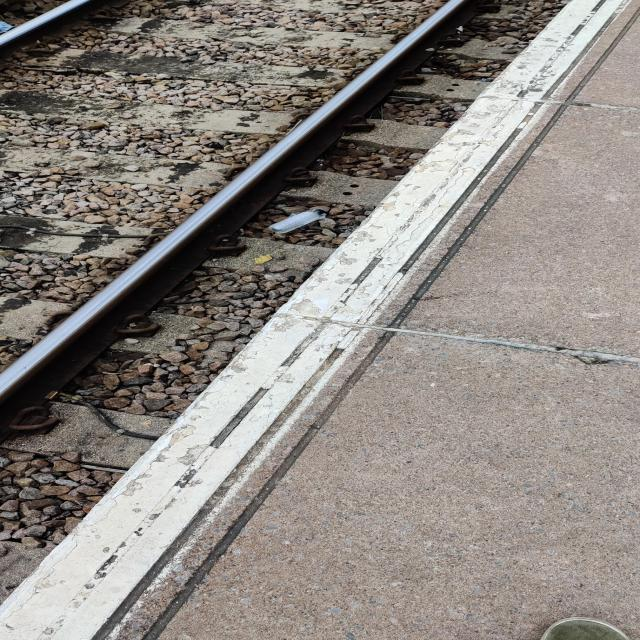litter: (264, 208, 326, 235)
